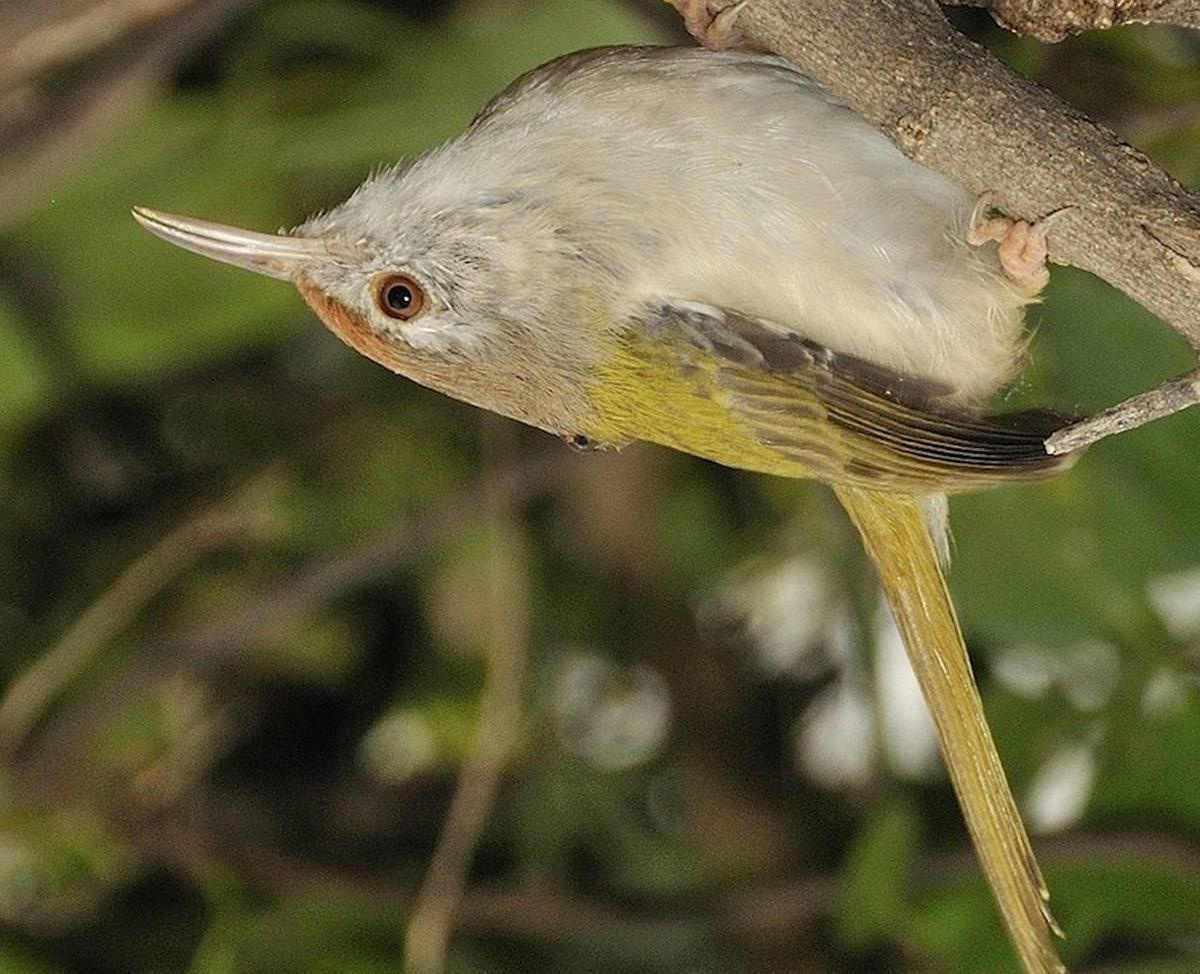tailorbird: (125, 62, 1090, 936)
